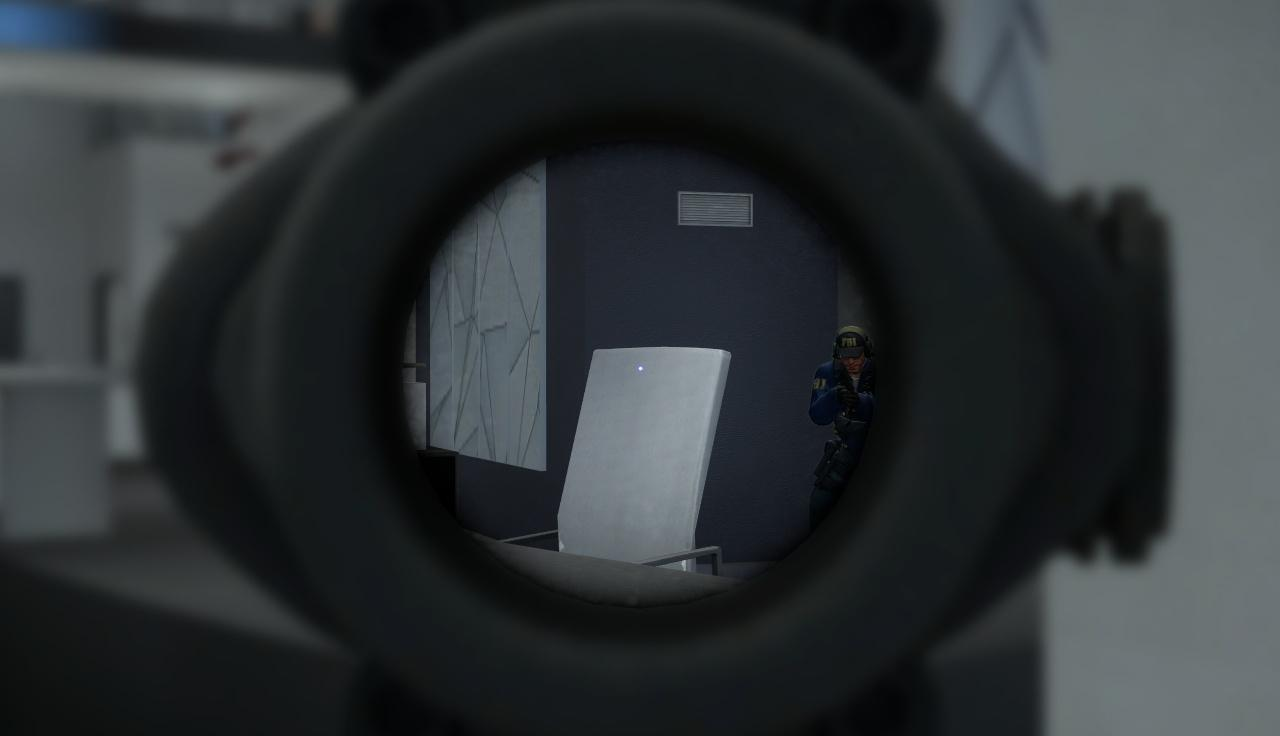ct: (813, 327, 880, 499)
cthead: (838, 327, 869, 373)
